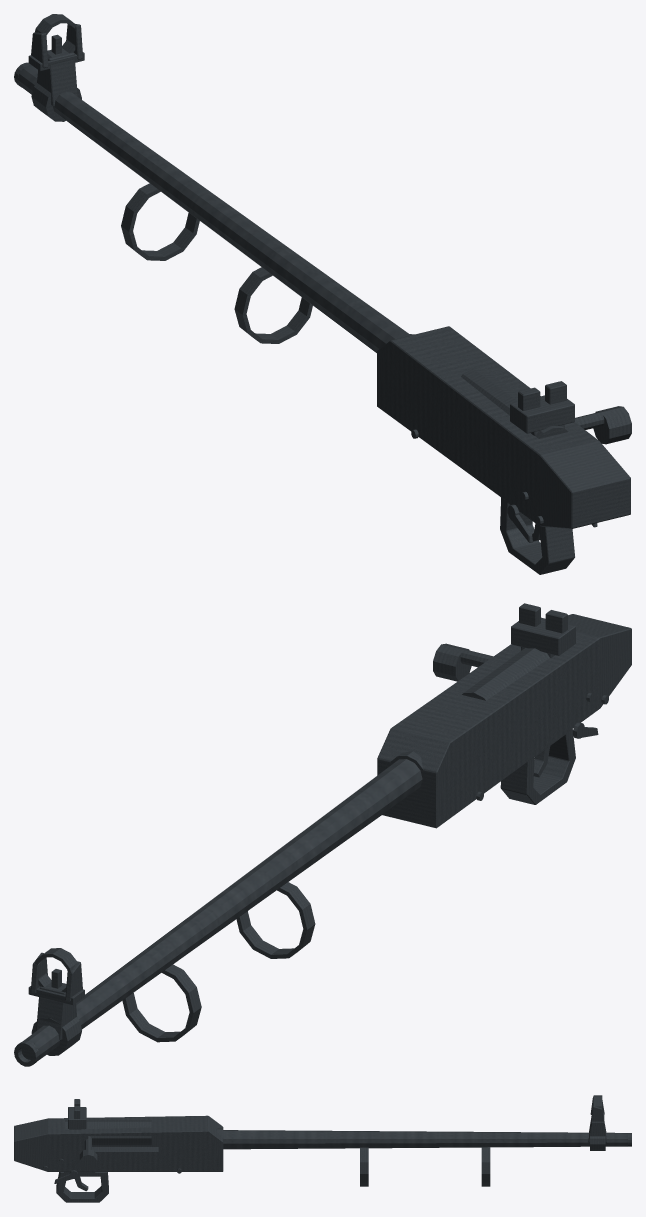
File: weapon_mosin9130.glb
The picture shows the model from 3 angles, top to bottom: view 1: azimuth 30°, elevation 25°; view 2: azimuth 150°, elevation 25°; view 3: azimuth 270°, elevation 25°; orthographic projection. The views are drawn at different scales.
Visible parts, largest first — view 1: body_LOD0, action_LOD0; view 2: body_LOD0, action_LOD0; view 3: body_LOD0, action_LOD0.
Boxes of the visible parts, <box> form: body_LOD0: <box>14,14,630,574</box>; action_LOD0: <box>461,368,631,444</box>; body_LOD0: <box>14,603,631,1066</box>; action_LOD0: <box>433,643,549,700</box>; body_LOD0: <box>14,1095,631,1202</box>; action_LOD0: <box>65,1120,151,1171</box>.
Size of what is drawn, in the model's own units: 0.1625 by 0.233 by 1.27.
Materials: 1 (1 with a texture image).
